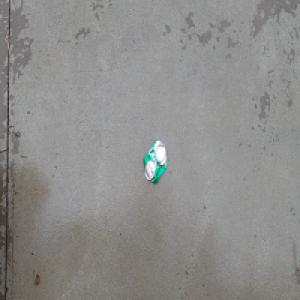SodaCan: (142, 137, 168, 185)
